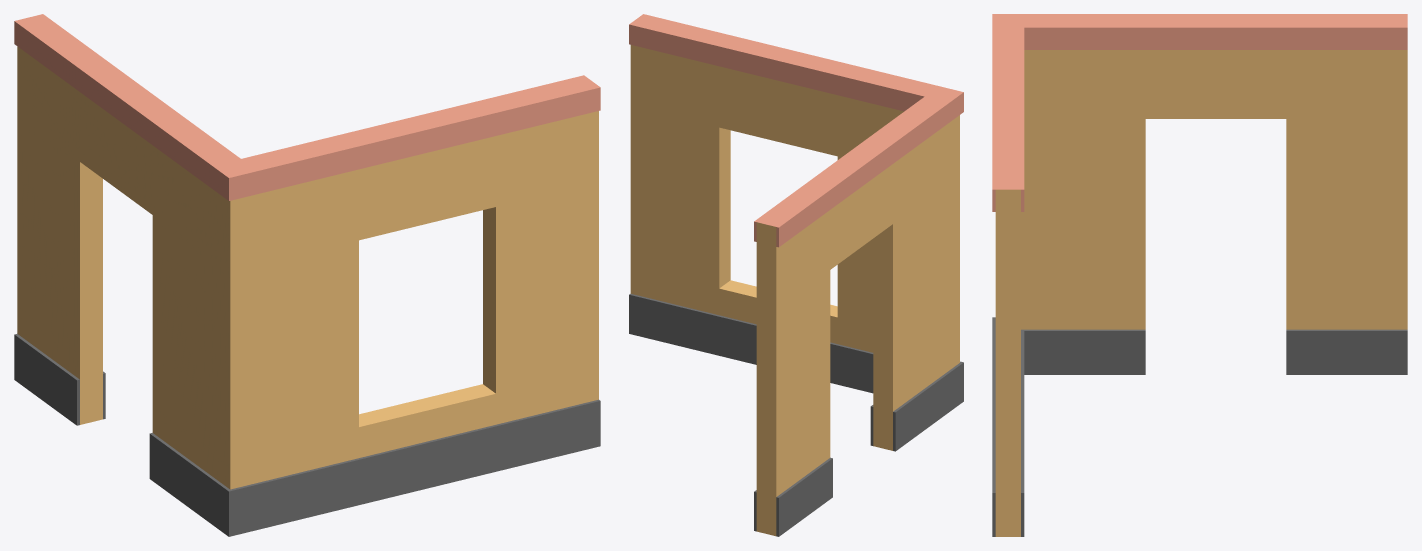
Rendered from Wall04-02.fbx.
The picture shows the model from 3 angles, left to right: view 1: azimuth 30°, elevation 25°; view 2: azimuth 150°, elevation 25°; view 3: azimuth 270°, elevation 25°; orthographic projection. The views are drawn at different scales.
Parts seen in each view (by area): view 1: Wall04-02; view 2: Wall04-02; view 3: Wall04-02.
Part boxes in pixels (bbox=[...]): Wall04-02: bbox=[14, 14, 600, 536]; Wall04-02: bbox=[629, 14, 963, 536]; Wall04-02: bbox=[992, 14, 1407, 536].
Size of the model in its own units: 3.25 by 3.25 by 3.
